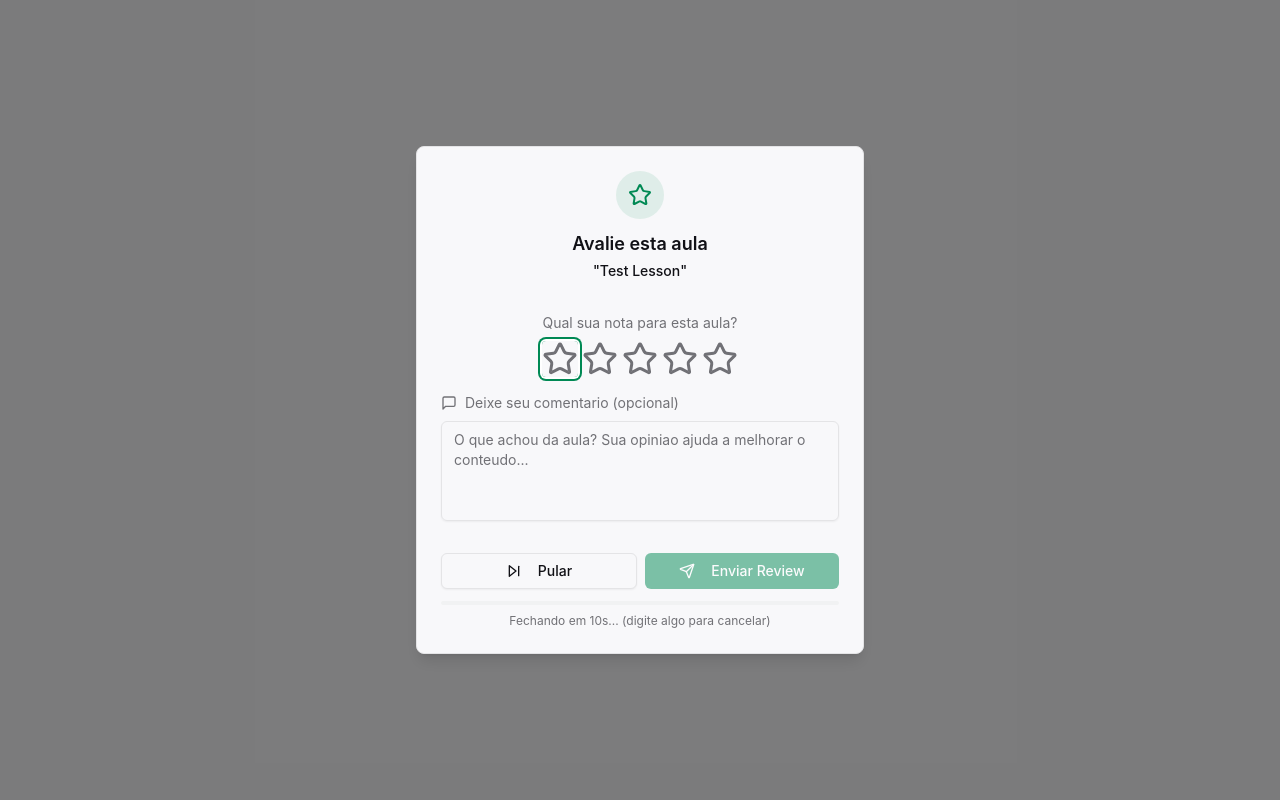
Test: LessonReviewOverlay › should cancel countdown when user interacts with rating
The image size is (1280, 800).
Expected: the text "Fechando em 10s... (digite algo para cancelar)" is shown, [509, 613, 771, 628]
// Click a star
What coordinates should you click on to do the following:
click the button named "Dar 3 estrelas"
I would click on:
 (640, 359)
Its box is [622, 341, 658, 377].
Wait 15000 ms
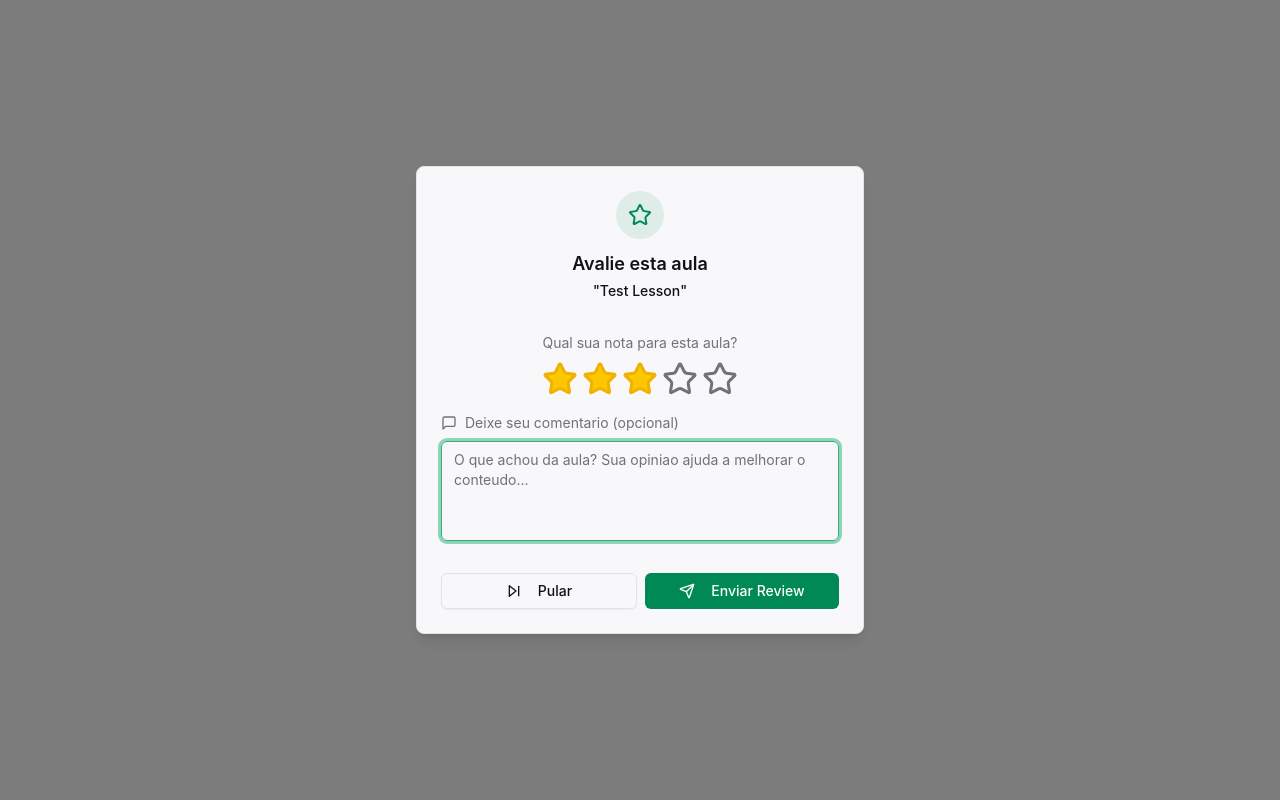
Now the text "Fechando em" is gone
